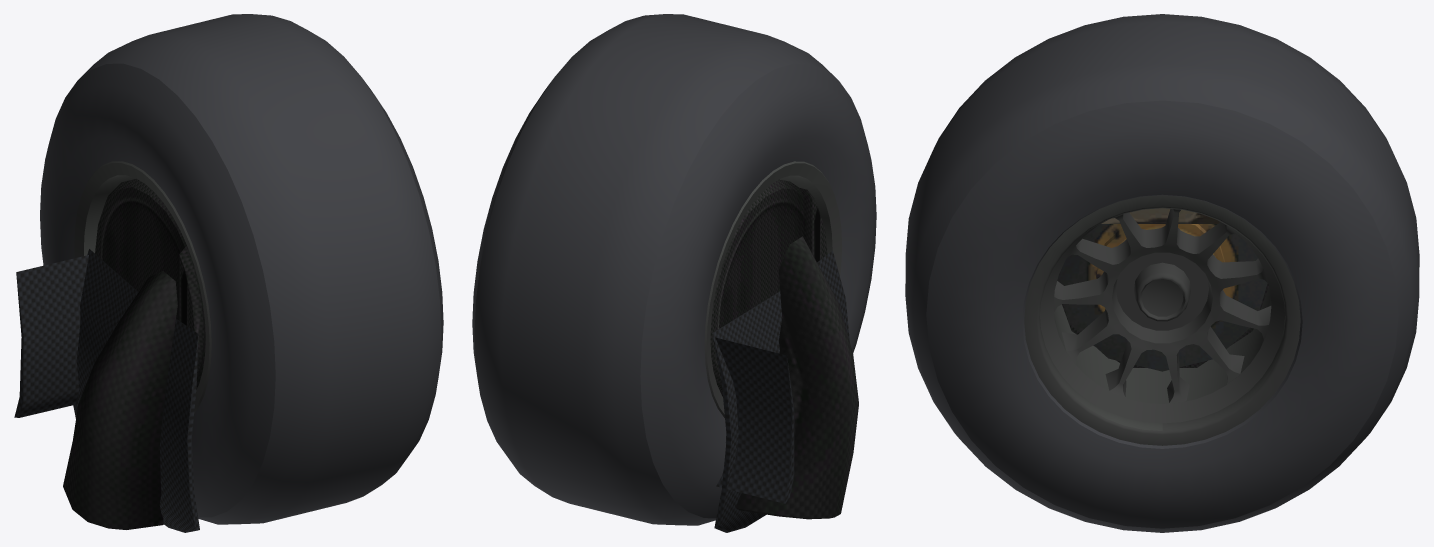
Rendered from wheel1.obj.
3 views of the same model, side by side, from view 1: azimuth 30°, elevation 25°; view 2: azimuth 150°, elevation 25°; view 3: azimuth 270°, elevation 25° (orthographic). The views are drawn at different scales.
Visible parts, largest first — view 1: object__48, object__27, object__47, object__19; view 2: object__48, object__47, object__27, object__19; view 3: object__47, object__48, object__19, object__37, object__27.
Part boxes in pixels (<box>): object__48: <box>77,14,441,524</box>; object__27: <box>14,178,205,532</box>; object__47: <box>40,63,443,517</box>; object__19: <box>74,161,211,413</box>; object__48: <box>474,14,838,525</box>; object__47: <box>472,63,876,518</box>; object__27: <box>710,179,858,532</box>; object__19: <box>704,161,842,417</box>; object__47: <box>926,100,1398,528</box>; object__48: <box>905,14,1419,532</box>; object__19: <box>1024,195,1300,445</box>; object__37: <box>1057,224,1267,371</box>; object__27: <box>1062,208,1268,367</box>.
Size of the model in its own units: 0.4094 by 0.6512 by 0.6512.
